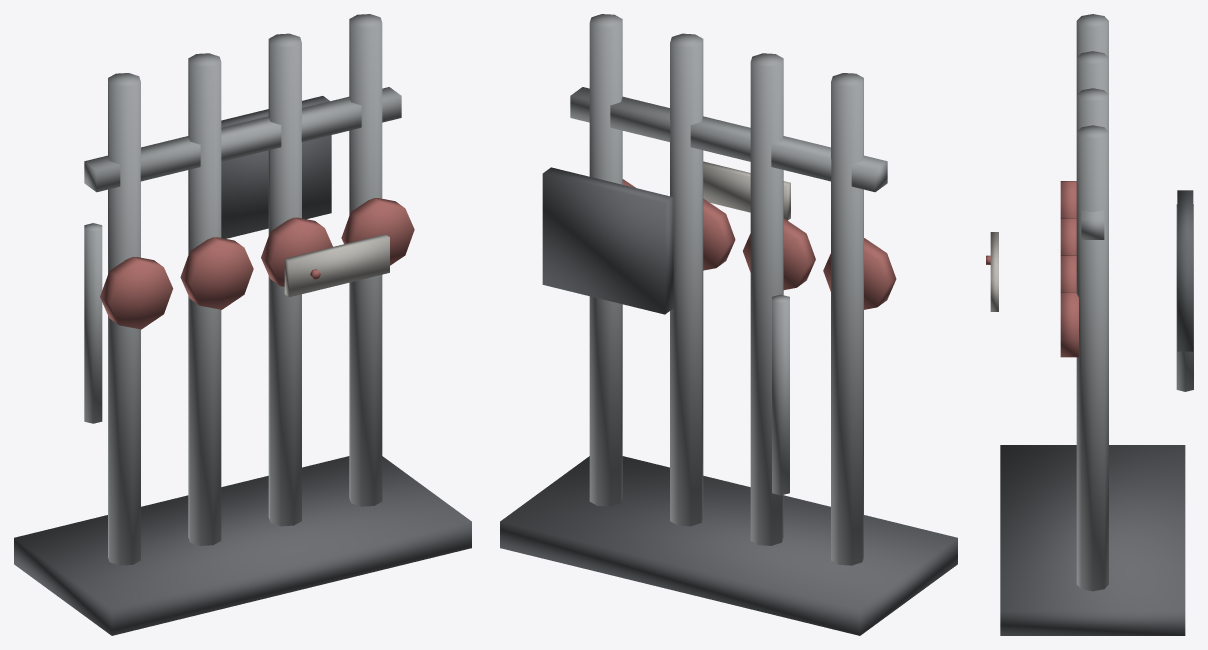
Rendered from radiator_manifold__service.glb.
3 renders of one model, left to right at view 1: azimuth 30°, elevation 25°; view 2: azimuth 150°, elevation 25°; view 3: azimuth 270°, elevation 25°, orthographic. The views are drawn at different scales.
Visible parts, largest first — view 1: world; view 2: world; view 3: world.
Boxes of the visible parts, x1,y1,x2,y2 form: world: (14, 14, 471, 635); world: (500, 14, 957, 635); world: (986, 14, 1193, 635).
Size of the model in its own units: 0.85 by 1.14 by 0.4494.
